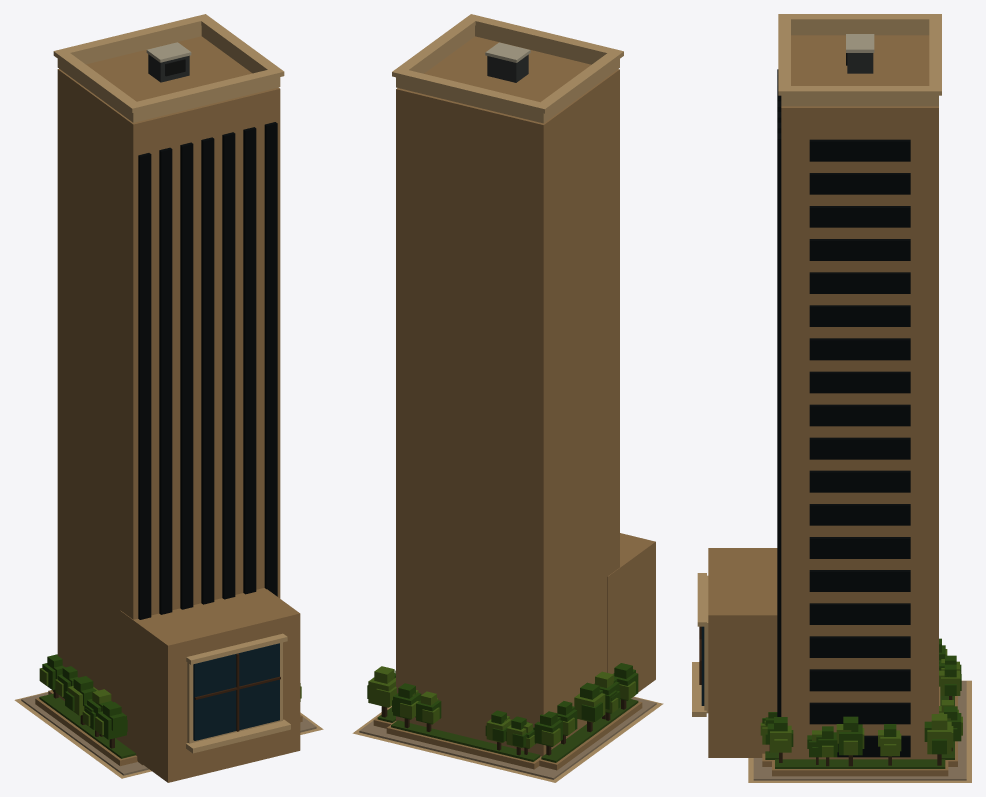
Rendered from SM_Mapa_010.fbx.
The picture shows the model from 3 angles, left to right: view 1: azimuth 30°, elevation 25°; view 2: azimuth 150°, elevation 25°; view 3: azimuth 270°, elevation 25°; orthographic projection. The views are drawn at different scales.
Visible parts, largest first — view 1: SM_Mapa_010; view 2: SM_Mapa_010; view 3: SM_Mapa_010.
Part boxes in pixels (left/top/right/bottom): SM_Mapa_010: left=14, top=14, right=323, bottom=782; SM_Mapa_010: left=352, top=14, right=663, bottom=782; SM_Mapa_010: left=692, top=14, right=971, bottom=782.
Size of the model in its own units: 14 by 16.16 by 43.96.
